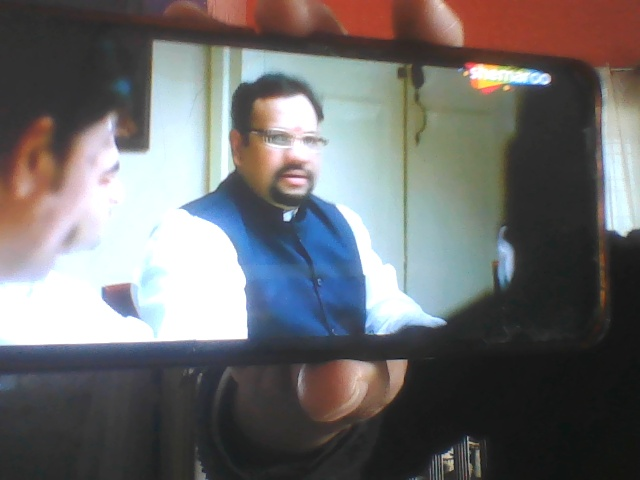fake: (223, 58, 337, 219)
